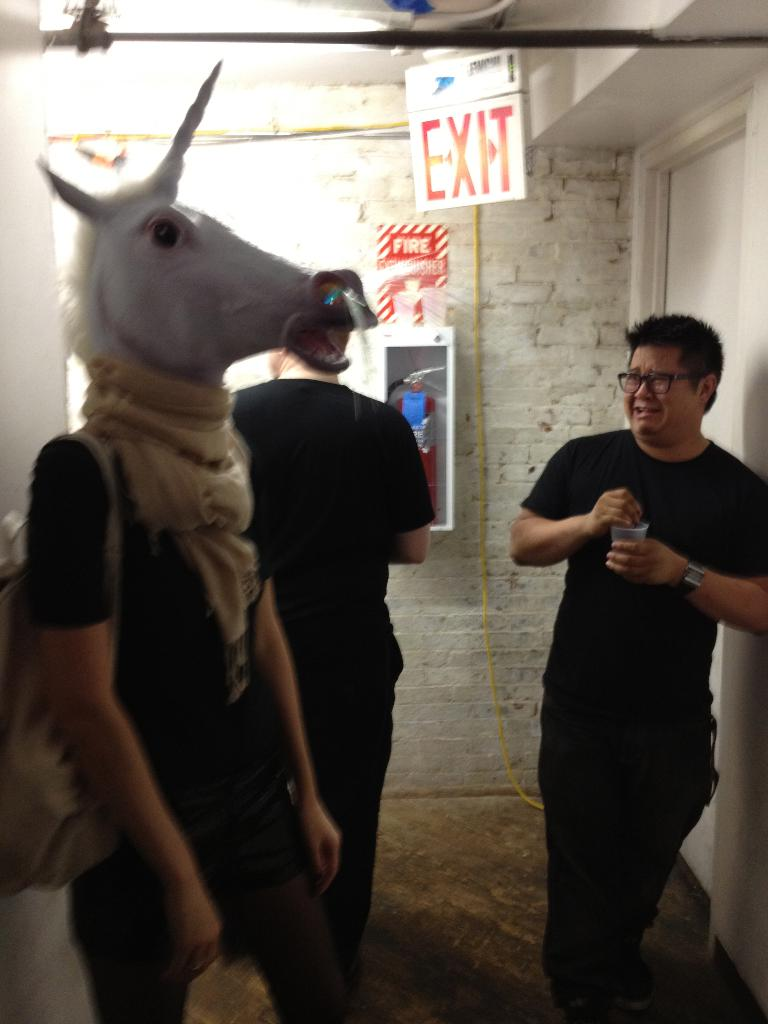Animal: (38, 61, 374, 383)
